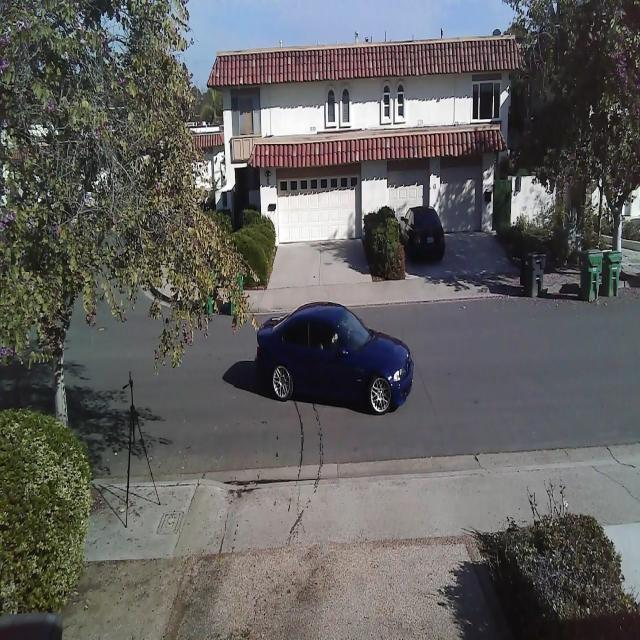Carbeetle: (249, 290, 417, 424)
Civilian: (399, 205, 446, 264)
